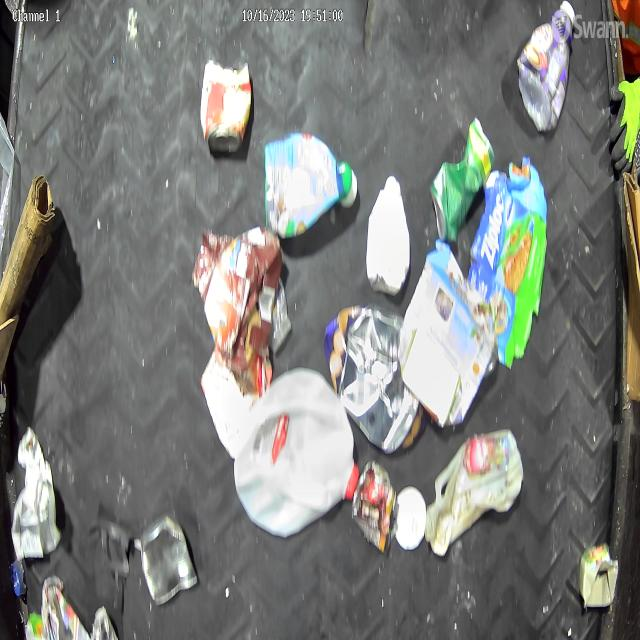can: (427, 113, 495, 246), (136, 513, 198, 605), (199, 61, 255, 154), (350, 454, 402, 552)
milk_jug: (234, 363, 357, 539)
non_white_jug: (426, 422, 525, 560), (264, 135, 355, 245)
plastic_bottle: (518, 2, 575, 125)
